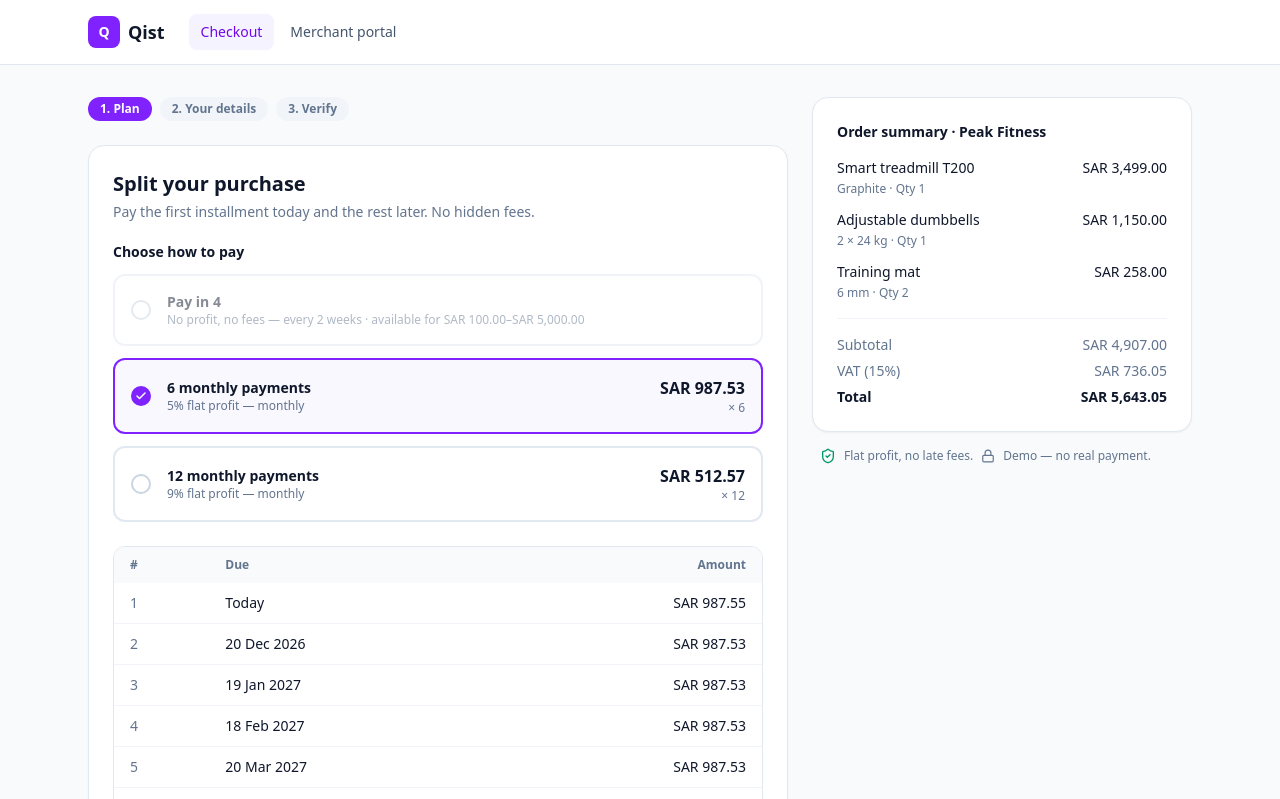
Scenario: <CheckoutPage /> › updates the schedule when another plan is chosen
The width and height of the screenshot is (1280, 799).
Click the radio button labelled "12 monthly payments 9% flat profit — monthly SAR 512.57 × 12" at (243, 476), box [113, 446, 763, 522]
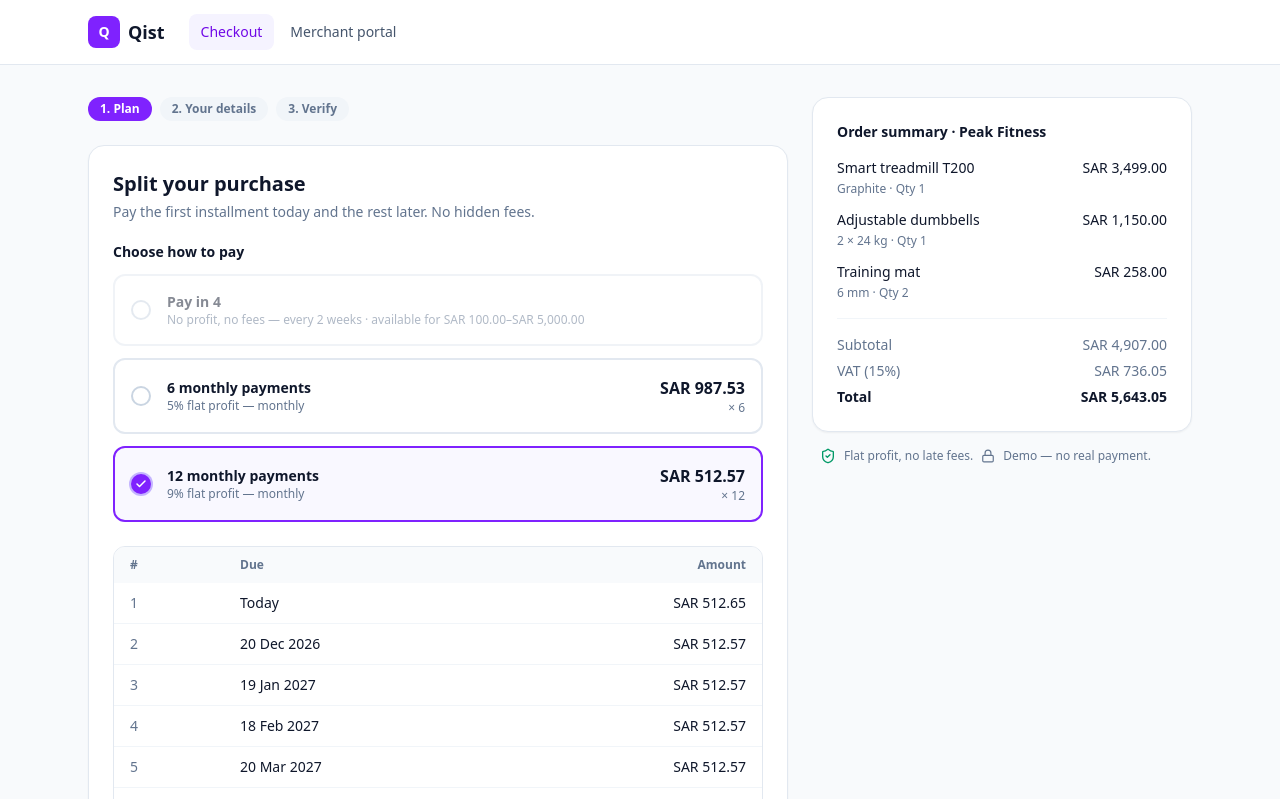
expect the number of rows is 15: met
